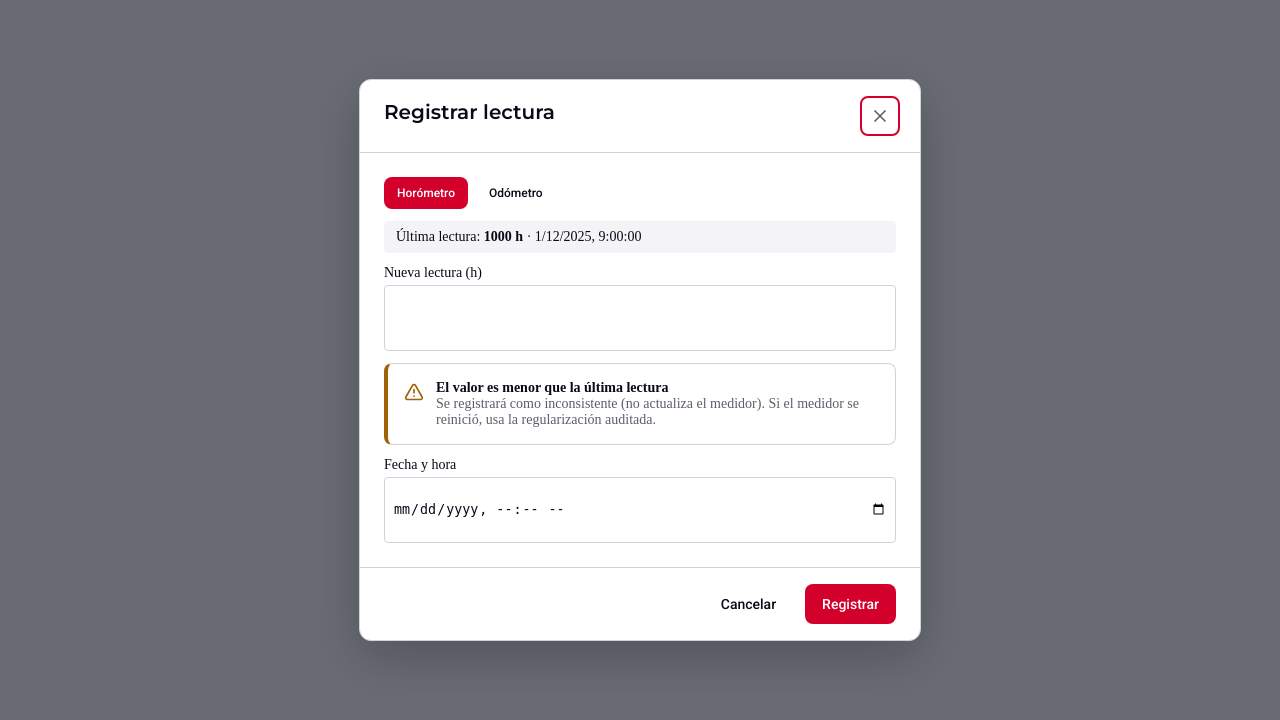
Scenario: Captura rápida de lectura › no permite guardar sin un valor válido
Click the button "Registrar" at (851, 604), box [805,584,896,624]
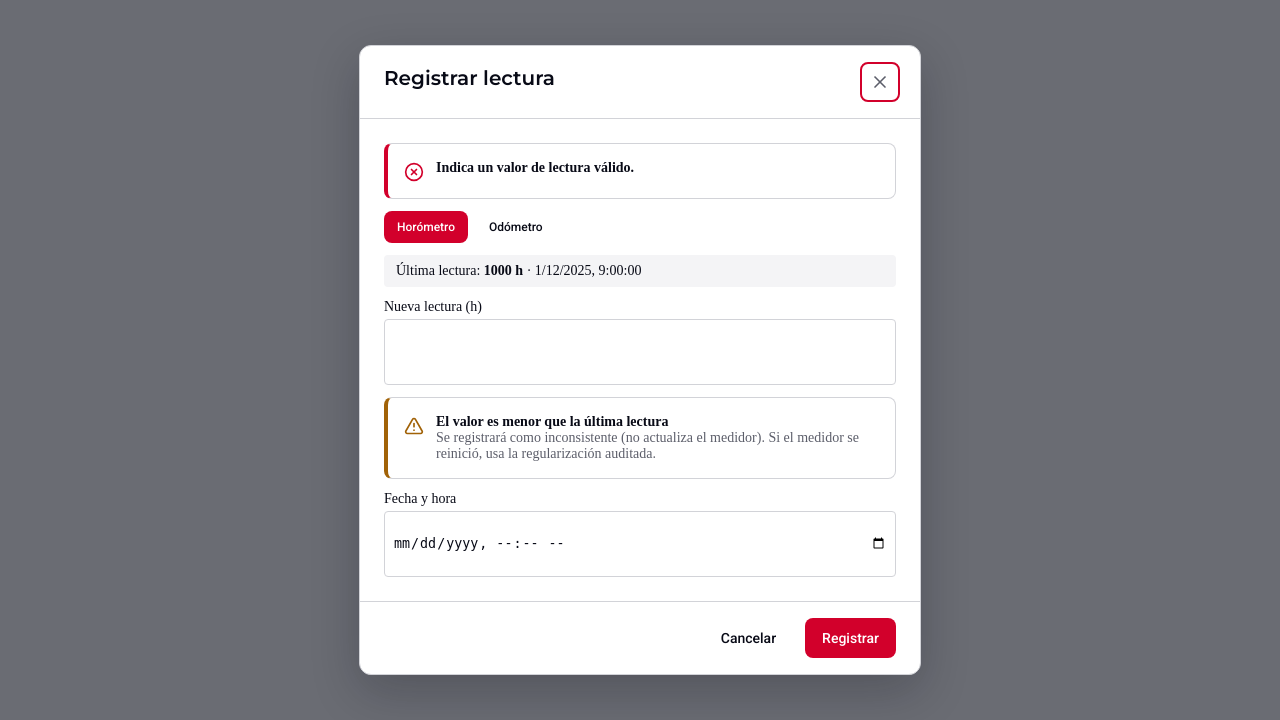
Now the text "Indica un valor de lectura válido." is shown, box [436,160,634,175]
